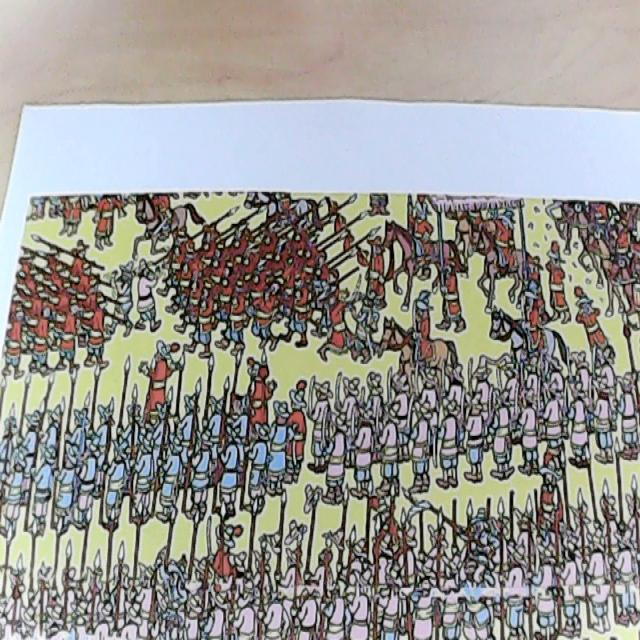waldo: (229, 388, 244, 416)
